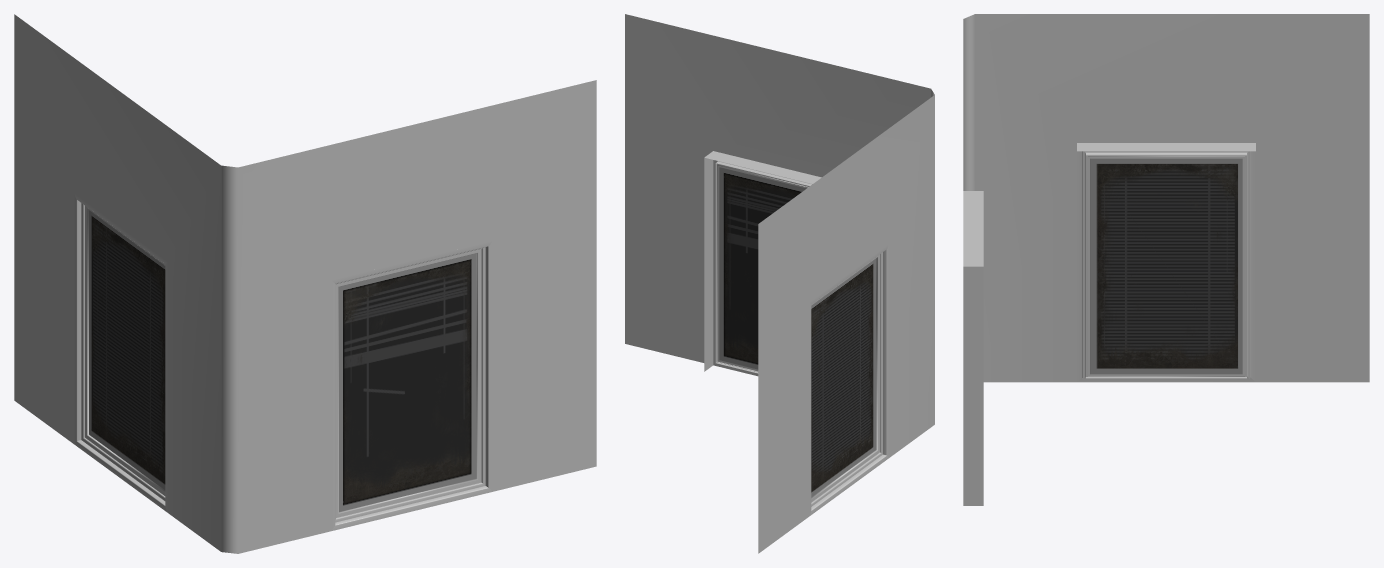
Rendered from Wall_TallWindows_Exterior.fbx.
The picture shows the model from 3 angles, left to right: view 1: azimuth 30°, elevation 25°; view 2: azimuth 150°, elevation 25°; view 3: azimuth 270°, elevation 25°; orthographic projection. The views are drawn at different scales.
Parts seen in each view (by area): view 1: Wall_TallWindows_Exterior; view 2: Wall_TallWindows_Exterior; view 3: Wall_TallWindows_Exterior.
Part boxes in pixels (bbox=[...]): Wall_TallWindows_Exterior: bbox=[14, 14, 596, 553]; Wall_TallWindows_Exterior: bbox=[625, 14, 934, 553]; Wall_TallWindows_Exterior: bbox=[963, 14, 1369, 505].
Size of the model in its own units: 157 by 157 by 157.
